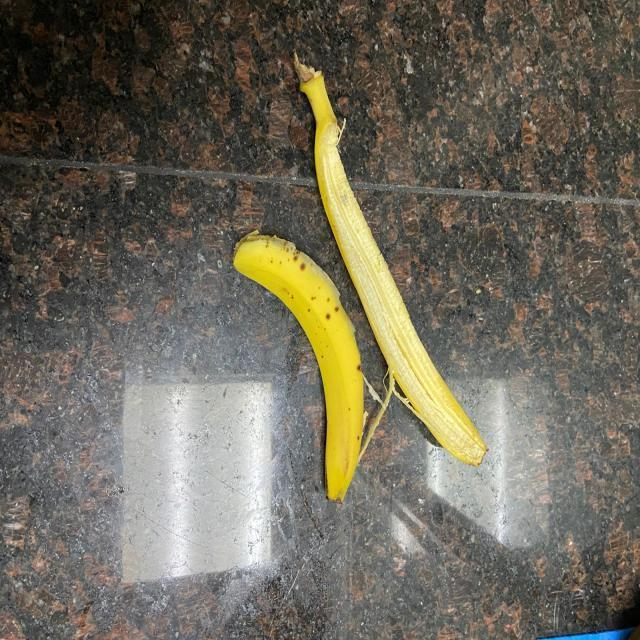Banana: (262, 66, 485, 496)
